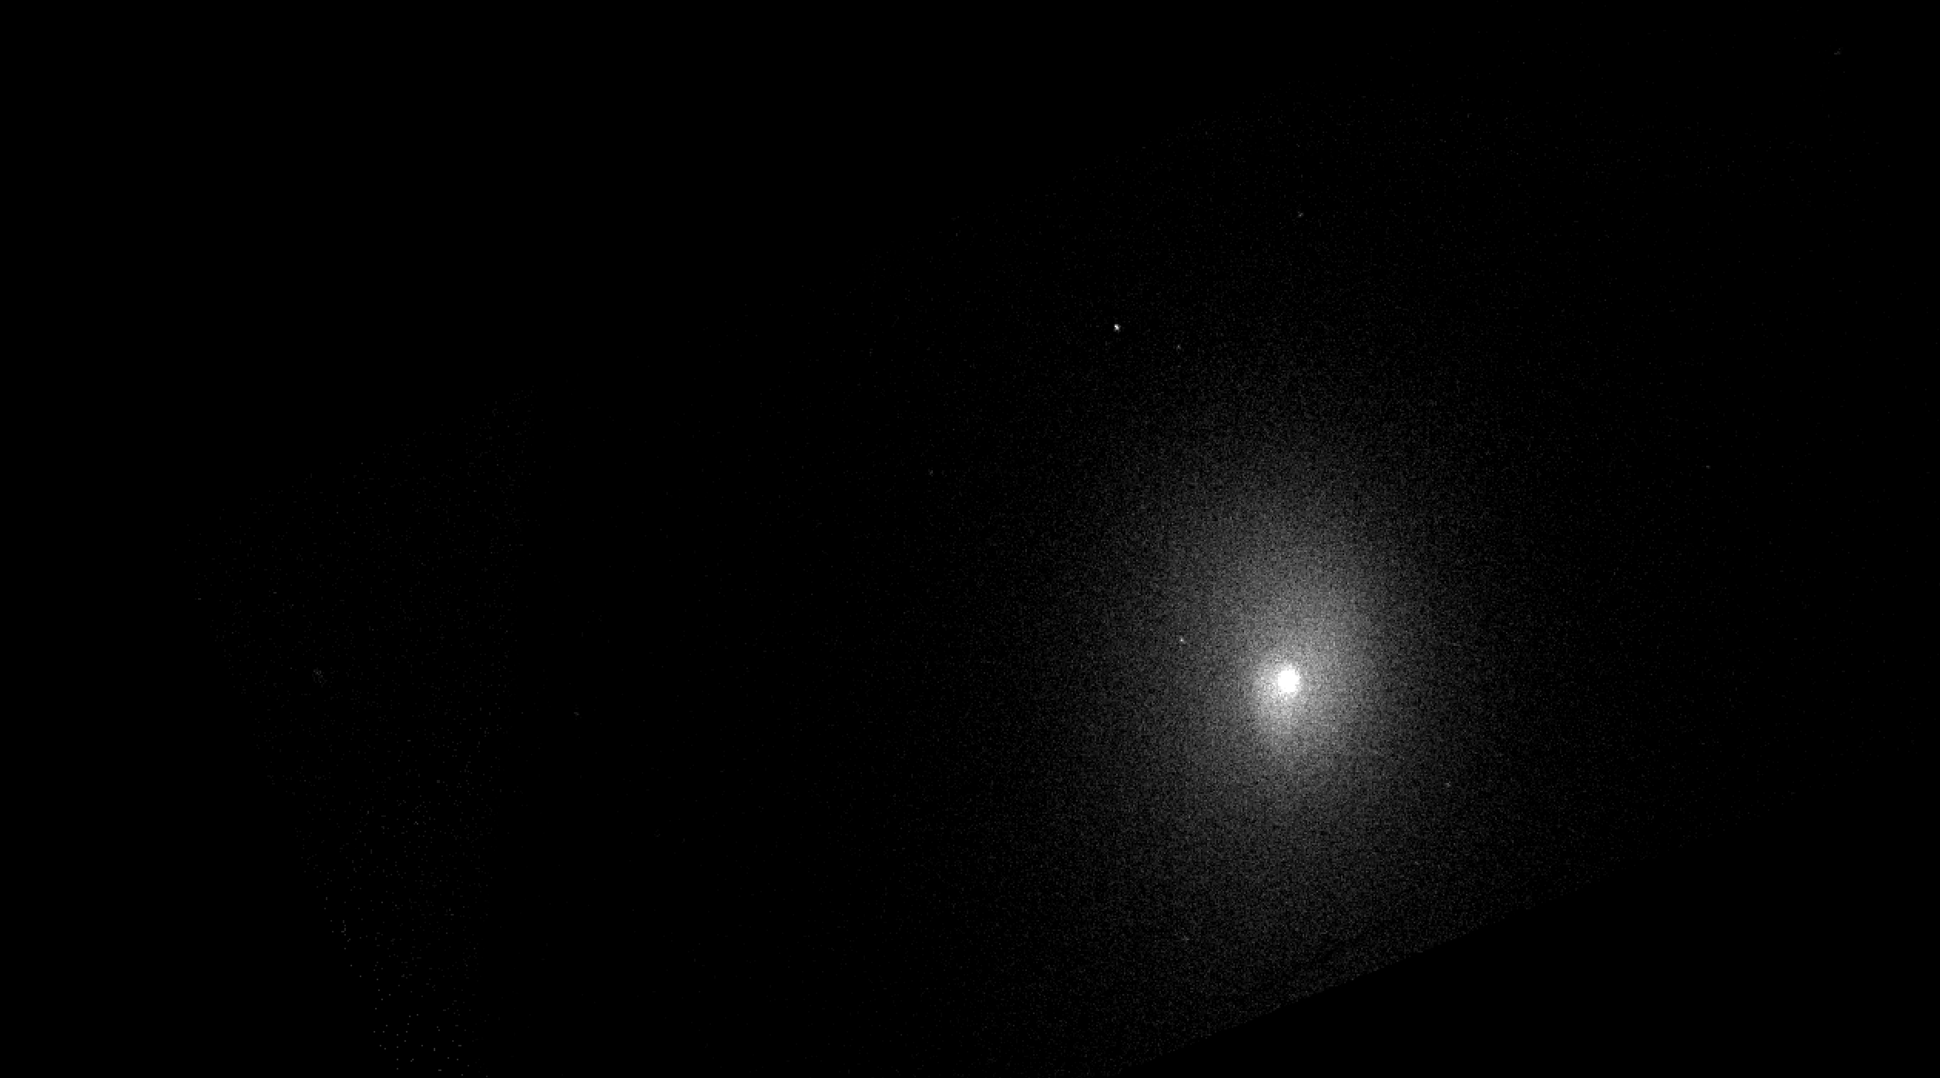Galaxy: (1168, 498, 1401, 810)
